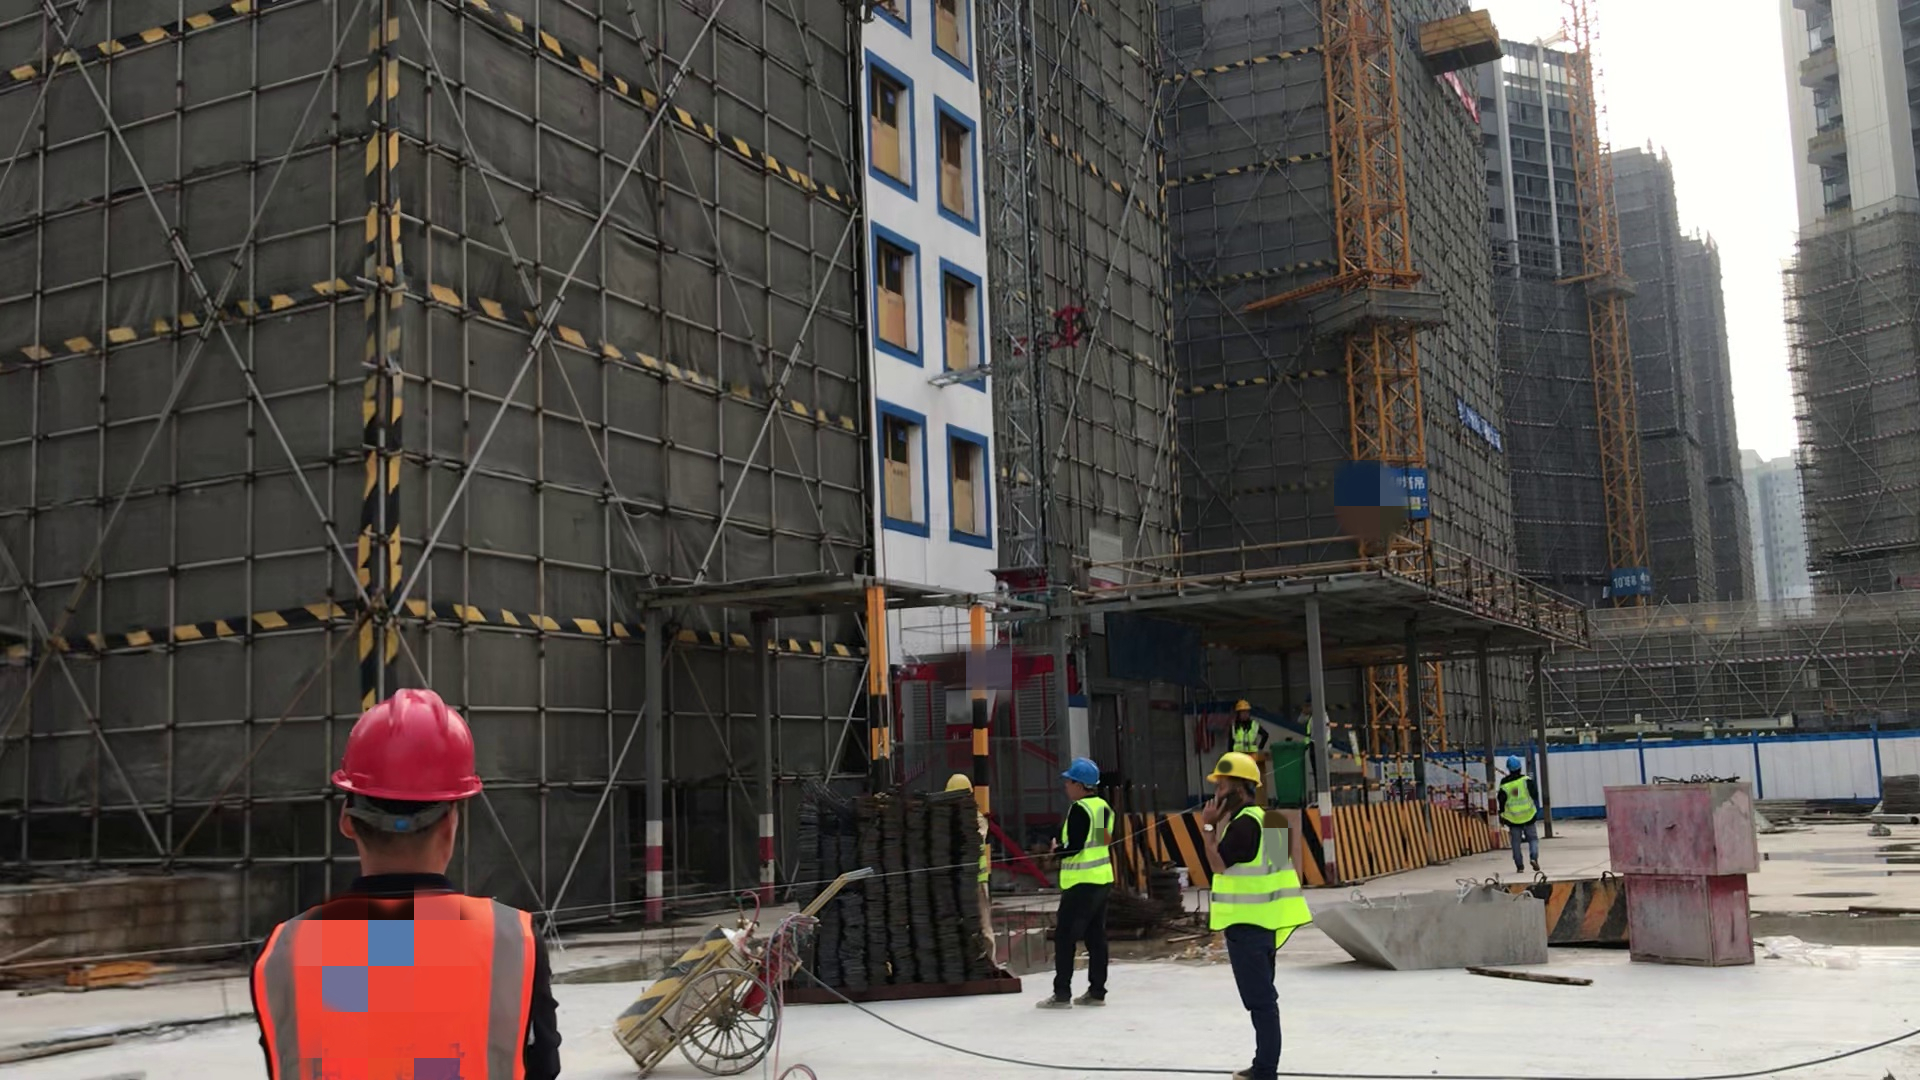fence: (1321, 698, 1507, 816)
handcart: (597, 856, 870, 1065)
helmet: (328, 678, 496, 814), (1201, 752, 1265, 793), (927, 767, 984, 799), (1061, 752, 1102, 791), (1503, 751, 1527, 777), (1234, 693, 1258, 716)
hopper: (1316, 881, 1563, 975), (1508, 874, 1641, 958)
person: (250, 682, 552, 1080), (1204, 744, 1334, 1080), (1041, 750, 1109, 1018), (1499, 742, 1547, 881), (1228, 694, 1266, 756)
slogan: (1456, 394, 1539, 468)
vest: (247, 868, 536, 1080), (1203, 799, 1316, 943), (1043, 793, 1129, 903), (1502, 770, 1544, 830), (1230, 720, 1267, 754)
